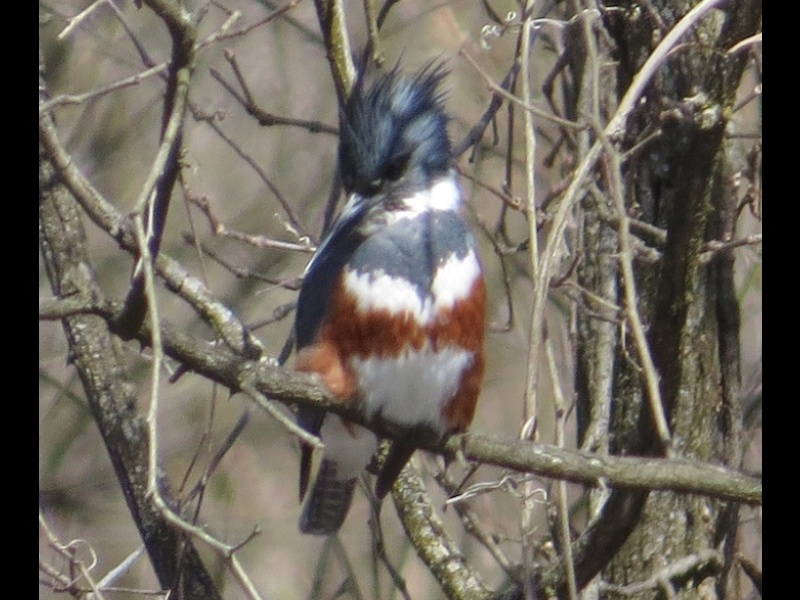kingfisher: (290, 59, 491, 540)
